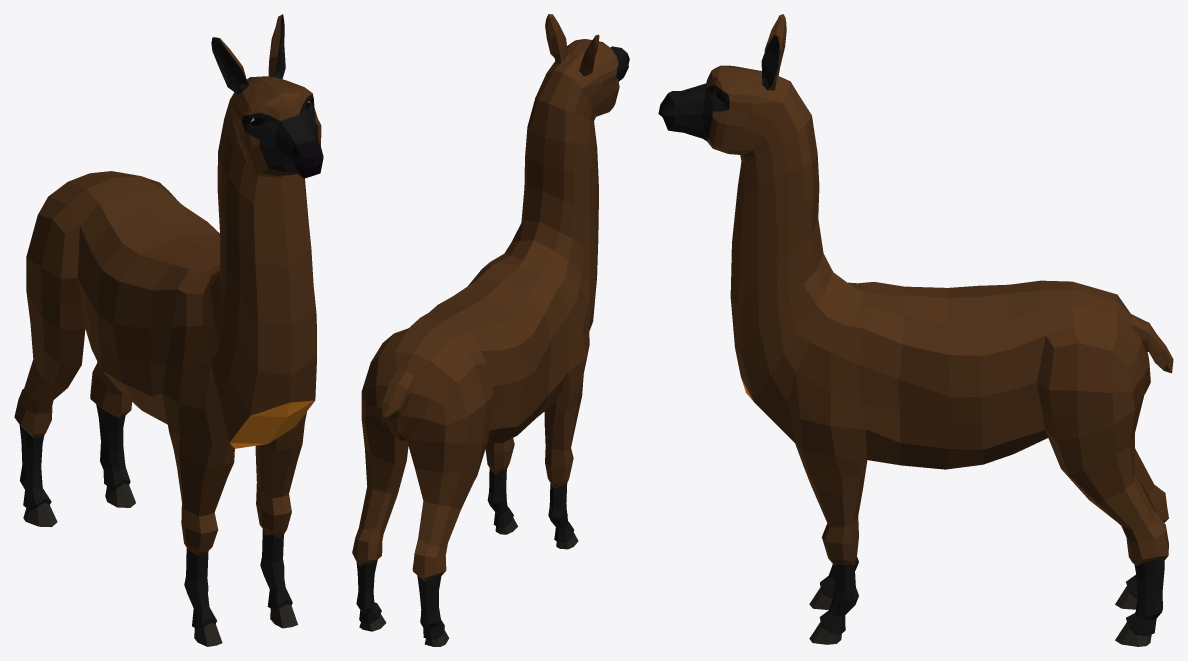
The model's file is Alpaca.obj.
3 renders of one model, left to right at view 1: azimuth 30°, elevation 25°; view 2: azimuth 150°, elevation 25°; view 3: azimuth 270°, elevation 25°, orthographic. The views are drawn at different scales.
Parts seen in each view (by area): view 1: Alpaca_Cube; view 2: Alpaca_Cube; view 3: Alpaca_Cube.
Part boxes in pixels (left/top/right/bottom): Alpaca_Cube: left=14, top=14, right=323, bottom=646; Alpaca_Cube: left=352, top=14, right=629, bottom=646; Alpaca_Cube: left=658, top=14, right=1173, bottom=646.
Size of the model in its own units: 1.27 by 5.43 by 4.28.
